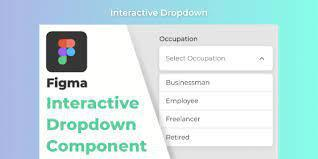button: (161, 92, 274, 111), (161, 75, 274, 93), (160, 111, 274, 128), (164, 129, 273, 146)
dropdown: (160, 47, 274, 71)
